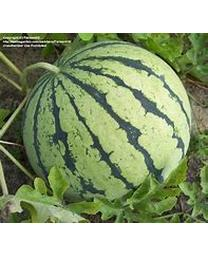watermelon: (19, 42, 193, 201)
